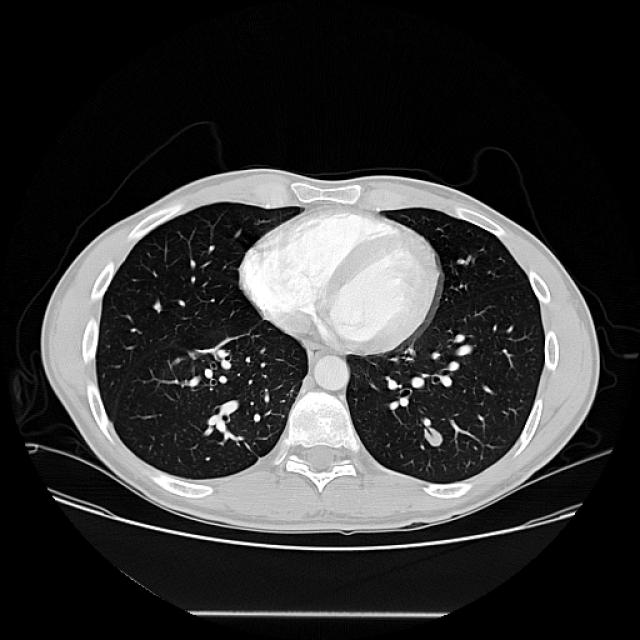nodule: (411, 415, 454, 457)
